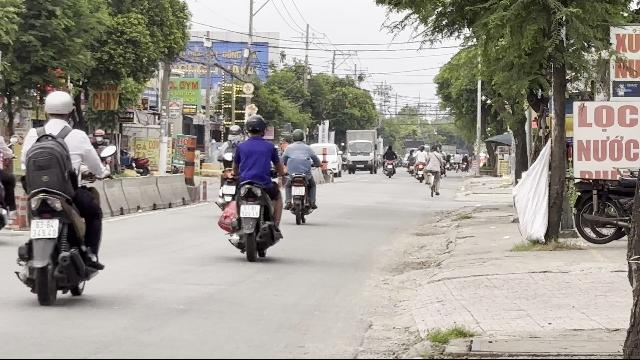helmet: (42, 90, 74, 122), (244, 114, 266, 138), (140, 88, 158, 108)
licenseplate: (29, 218, 57, 238), (240, 204, 260, 218)
motorcyclist: (13, 88, 107, 304), (218, 113, 284, 259)
